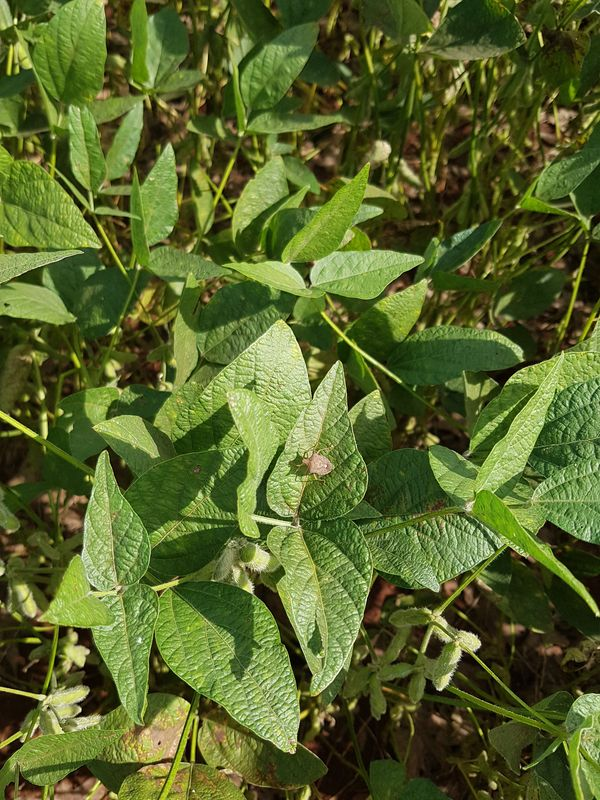Euschistus_heros_adulto: (290, 440, 347, 486)
